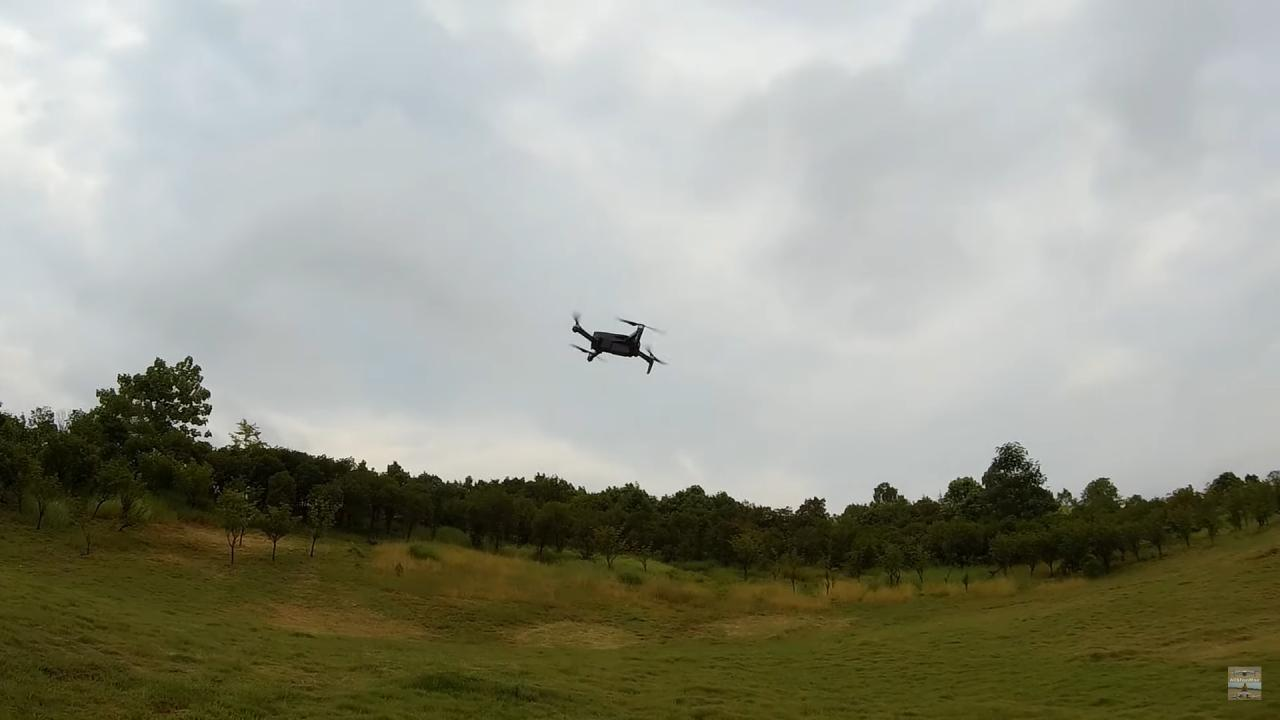Drone: (551, 300, 683, 383)
